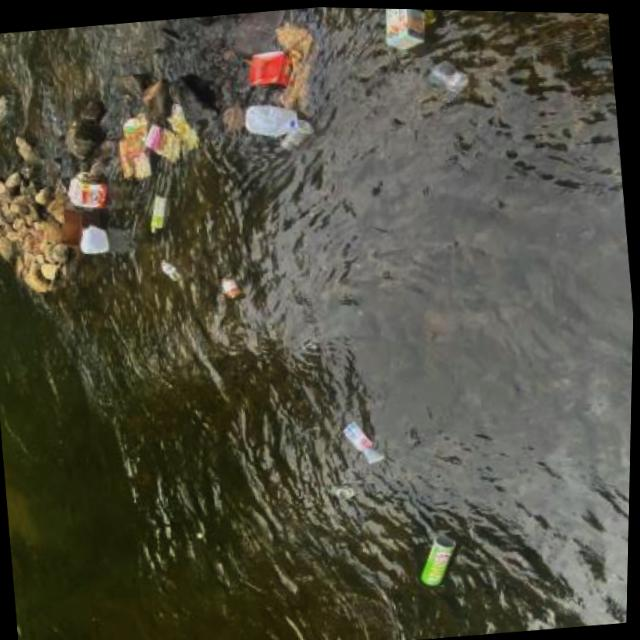Bottle-Glass: (213, 258, 254, 307)
Can-Metal: (417, 526, 468, 590)
Cardboard: (143, 98, 208, 167), (243, 44, 297, 94), (59, 167, 116, 214), (376, 7, 432, 52), (144, 182, 176, 235)
Paper: (111, 111, 156, 182)
Plastic: (238, 93, 316, 155), (335, 408, 396, 470), (424, 46, 474, 90), (73, 215, 116, 262), (156, 253, 189, 283)
